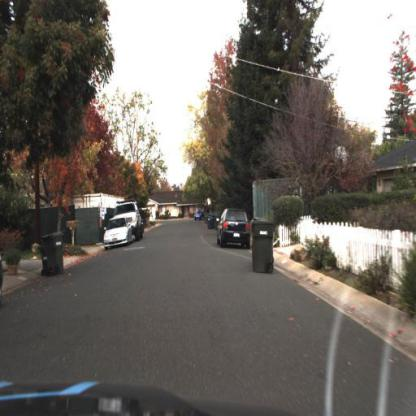car: (215, 206, 255, 253), (101, 213, 135, 252), (114, 198, 144, 239), (116, 199, 143, 223), (195, 210, 206, 221)
